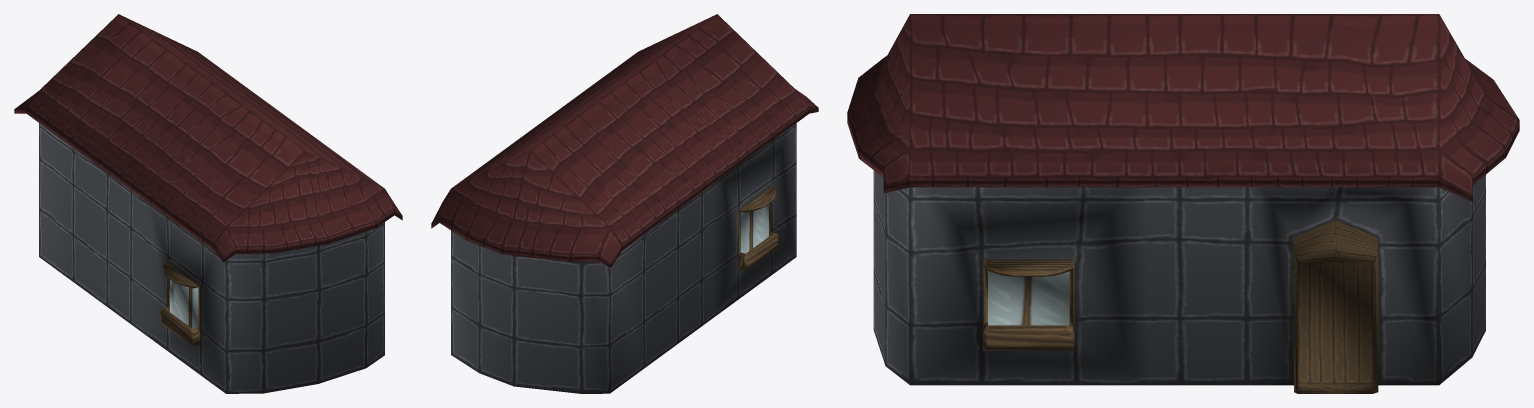
File: casa5.fbx
The picture shows the model from 3 angles, left to right: view 1: azimuth 30°, elevation 25°; view 2: azimuth 150°, elevation 25°; view 3: azimuth 270°, elevation 25°; orthographic projection. The views are drawn at different scales.
Visible parts, largest first — view 1: Cube; view 2: Cube; view 3: Cube.
Part boxes in pixels (left/top/right/bottom): Cube: left=14, top=14, right=402, bottom=393; Cube: left=431, top=14, right=818, bottom=393; Cube: left=847, top=14, right=1519, bottom=393.
Size of the model in its own units: 5.29 by 5.84 by 11.25.
